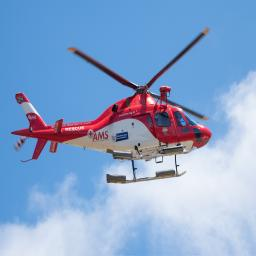helicopter: (13, 27, 213, 185)
